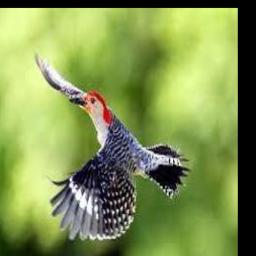Woodpecker: (34, 50, 189, 240)
